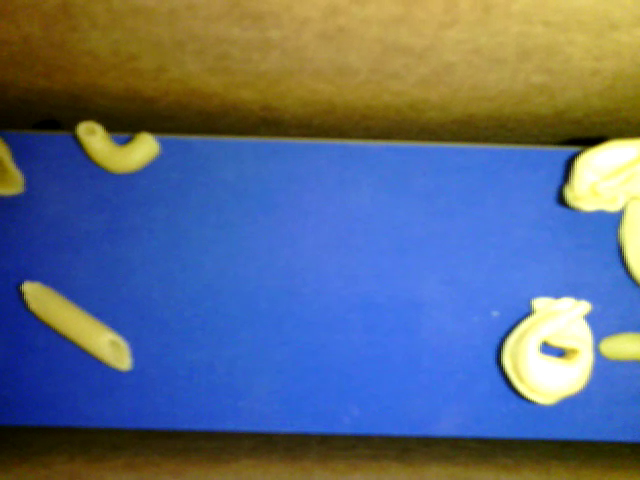elbow: (75, 120, 160, 172)
penne: (18, 280, 132, 374)
shell: (1, 138, 26, 197)
tortellini: (503, 298, 596, 404), (565, 137, 639, 214)
